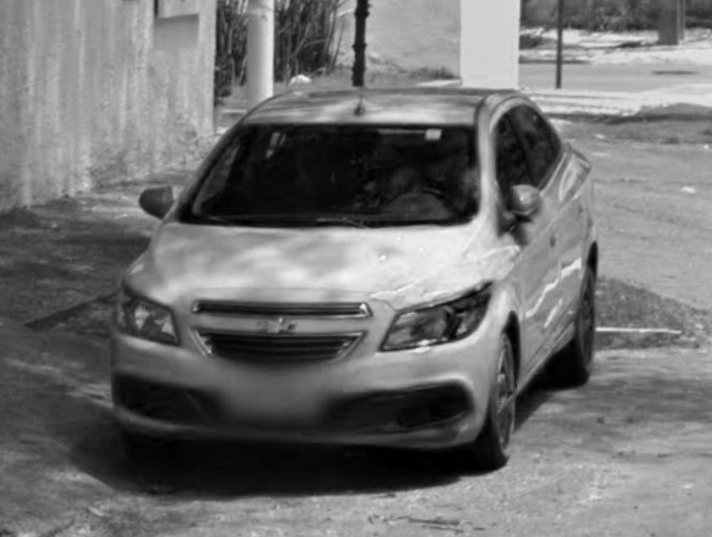car: (104, 80, 604, 480)
